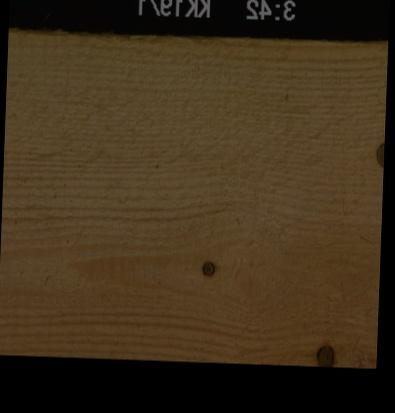dry_knot: (200, 259, 216, 276), (375, 139, 383, 168)
edge_knot: (315, 341, 336, 366)
